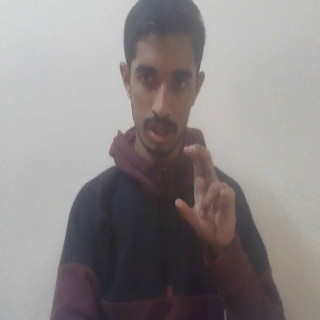No: (172, 142, 238, 252)
